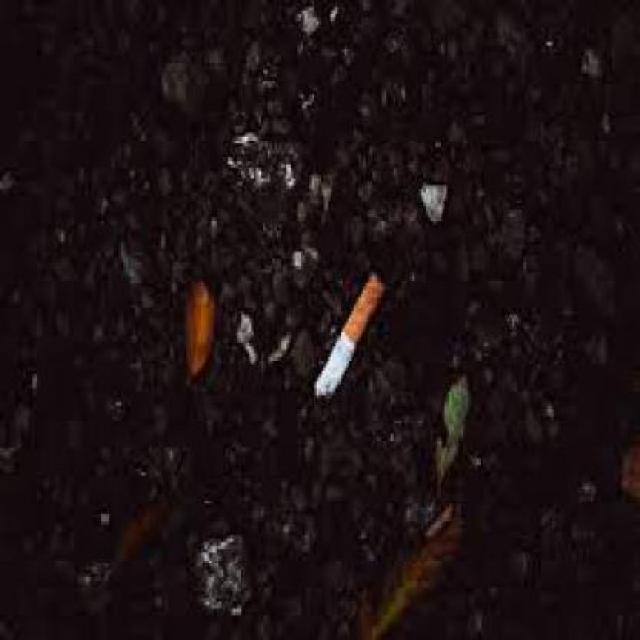cigarette: (316, 252, 392, 402)
